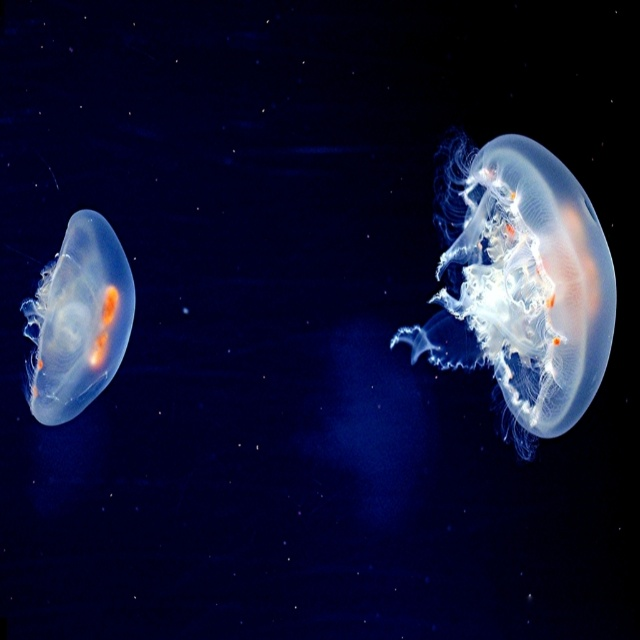Jellyfish: (390, 124, 617, 467), (20, 210, 136, 426)
